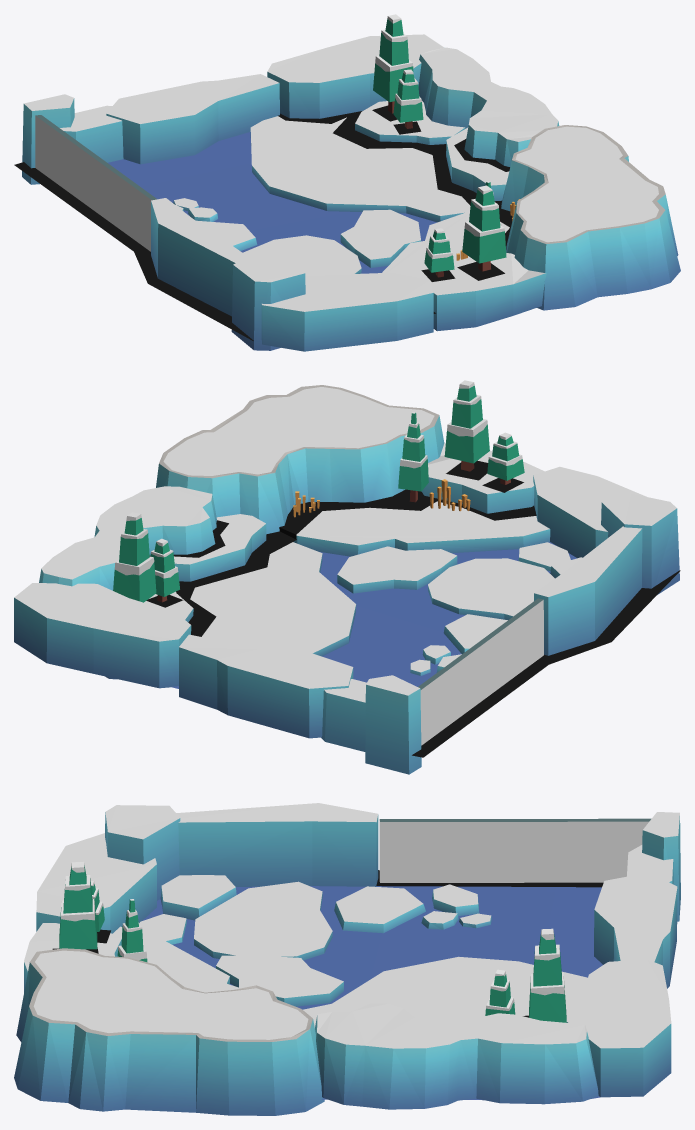
File: xweilan_1022_1.FBX
3 renders of one model, top to bottom at view 1: azimuth 30°, elevation 25°; view 2: azimuth 150°, elevation 25°; view 3: azimuth 270°, elevation 25°, orthographic. The views are drawn at different scales.
Visible parts, largest first — view 1: xweilan_1022_1; view 2: xweilan_1022_1; view 3: xweilan_1022_1.
Boxes of the visible parts, bbox=[...] form: xweilan_1022_1: bbox=[14, 14, 680, 351]; xweilan_1022_1: bbox=[14, 380, 680, 774]; xweilan_1022_1: bbox=[14, 803, 680, 1115].
Bounding box in the file's own units: 4724 × 1309 × 5288.
